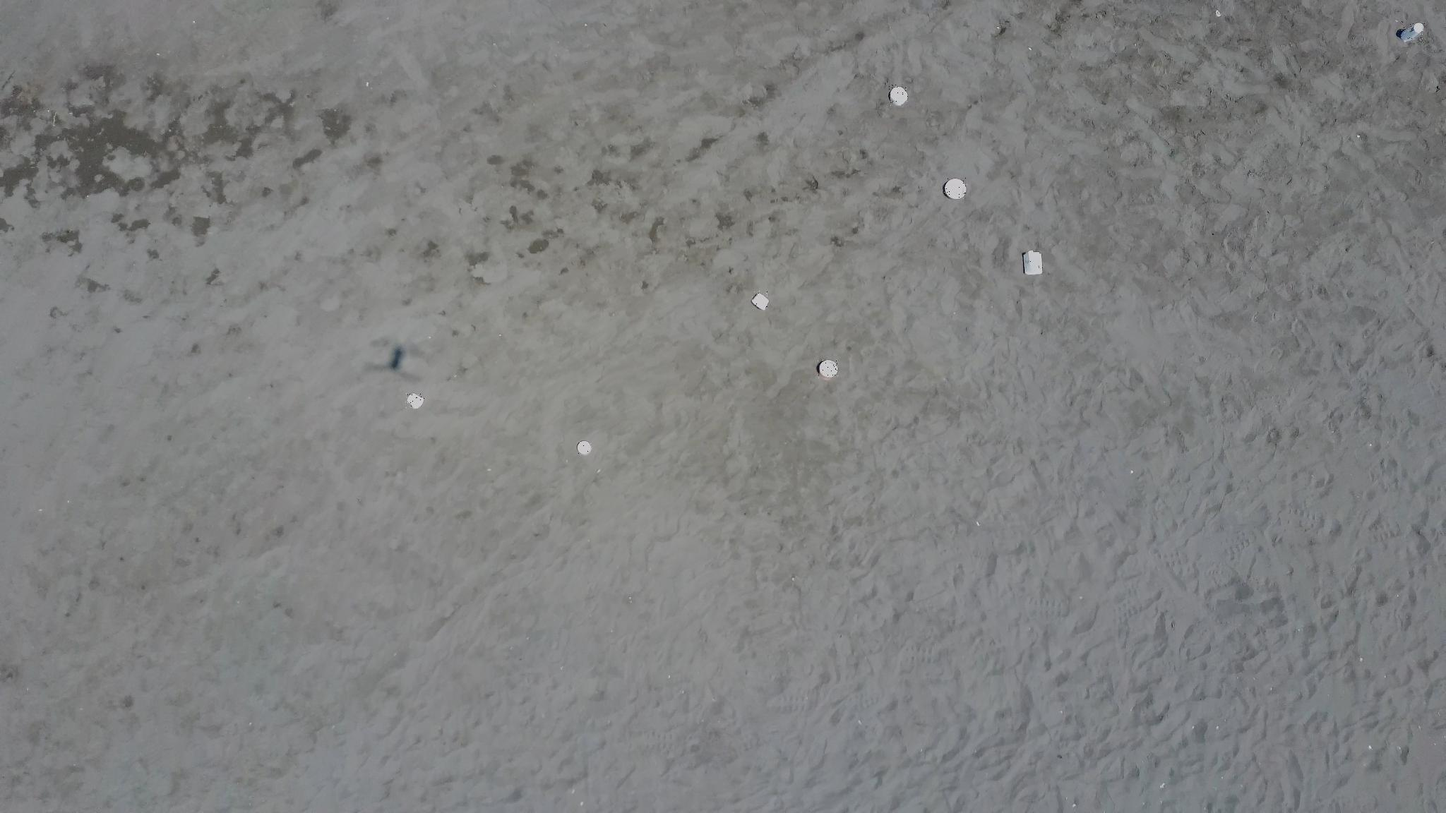Garbage: (1395, 23, 1423, 42), (943, 178, 966, 200), (818, 359, 839, 379), (388, 344, 404, 368), (1024, 252, 1041, 274), (889, 85, 908, 104), (750, 292, 769, 310), (405, 393, 424, 408), (577, 440, 592, 455)
